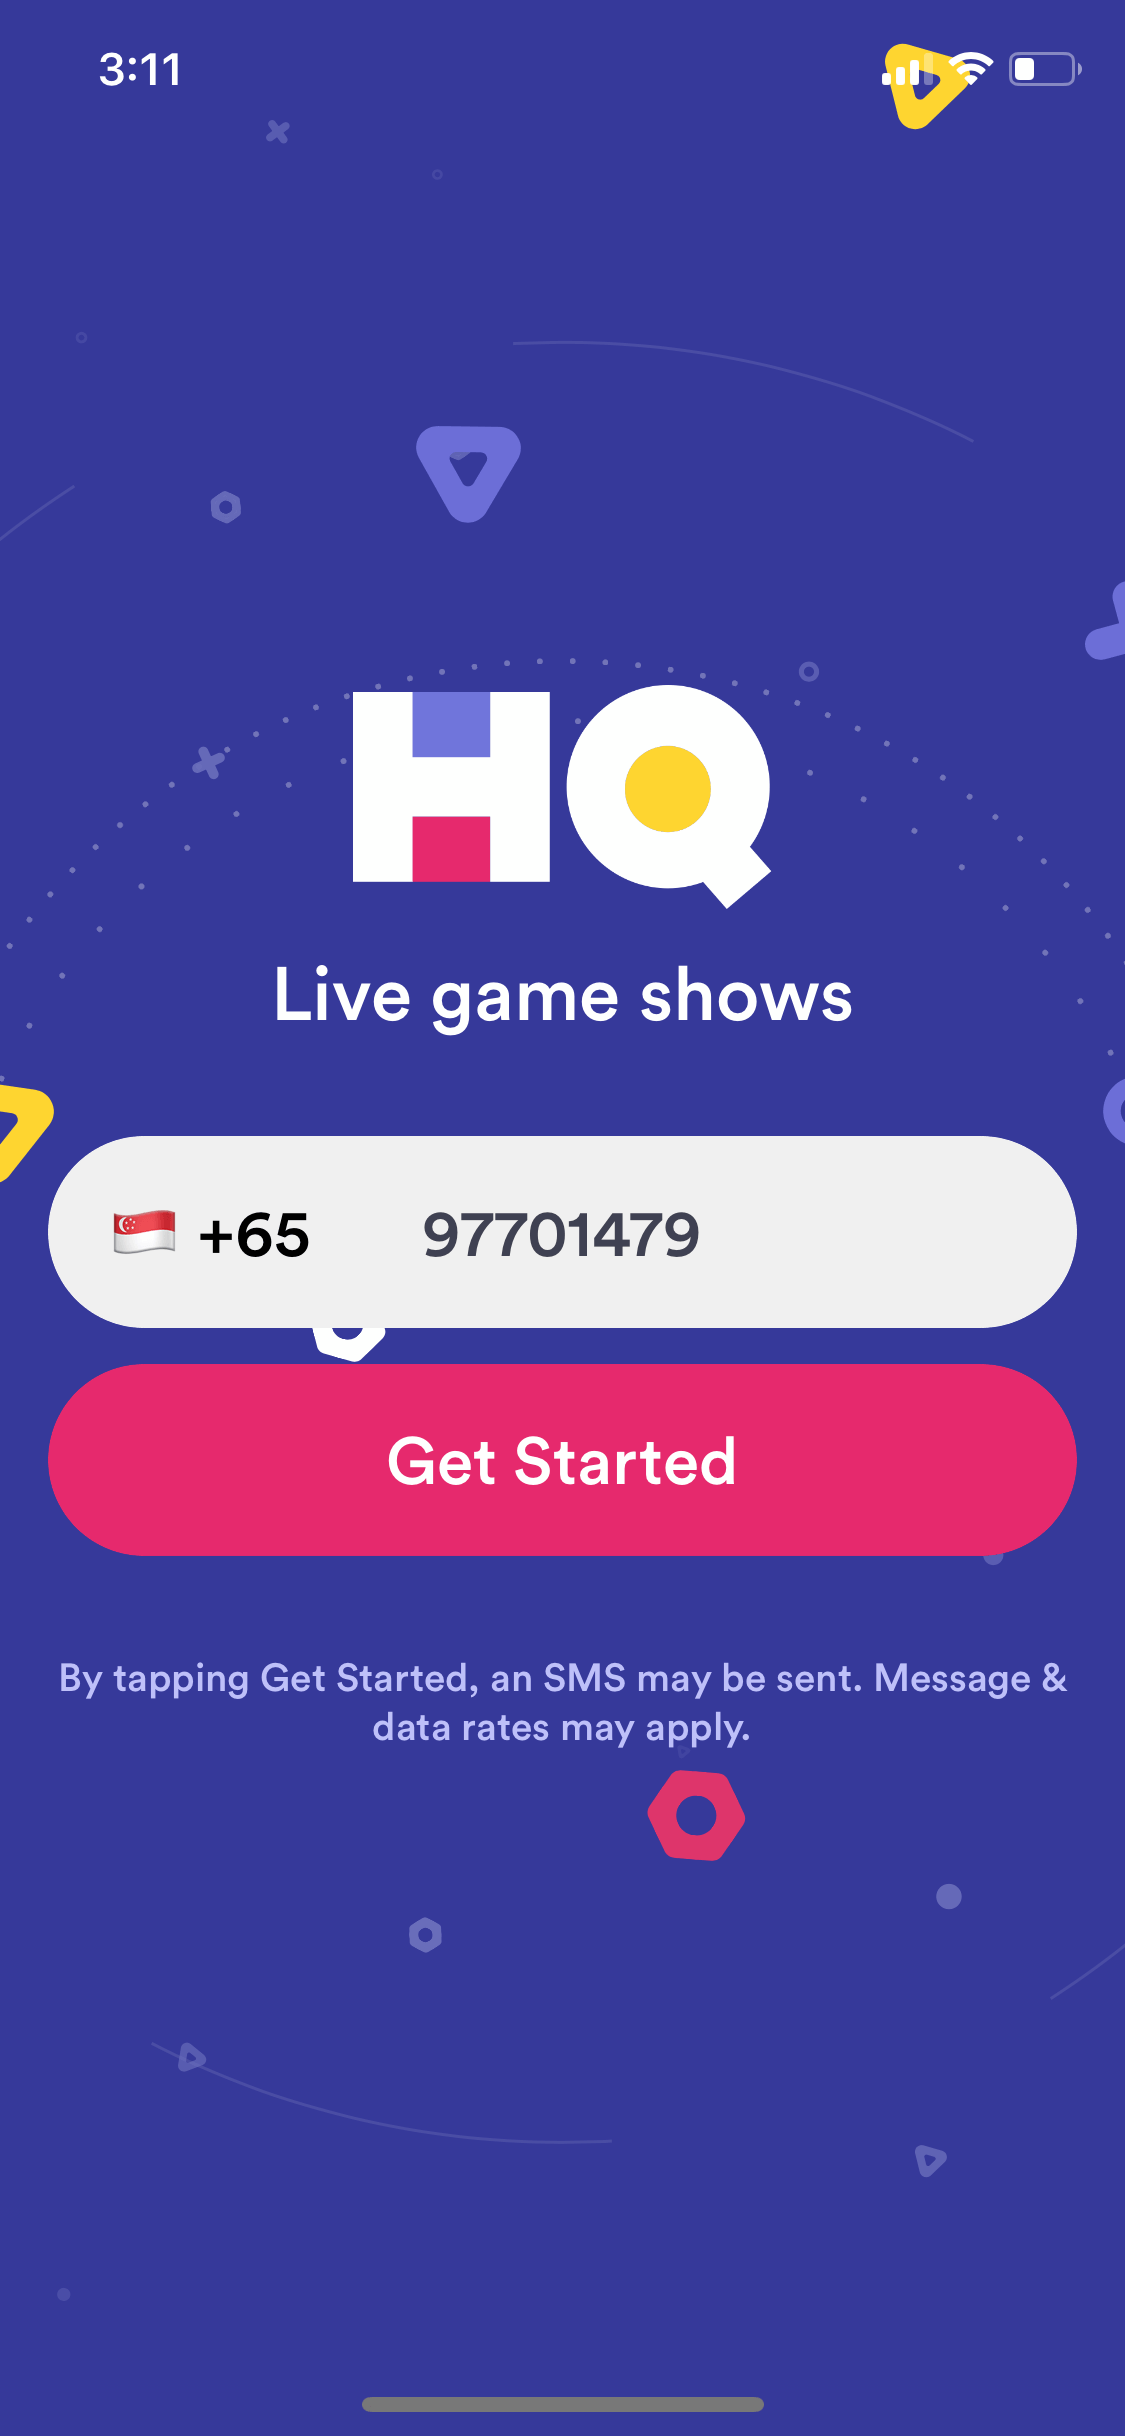Buttons: (42, 1352, 1088, 1571)
Text Fields: (33, 1115, 1091, 1344)
